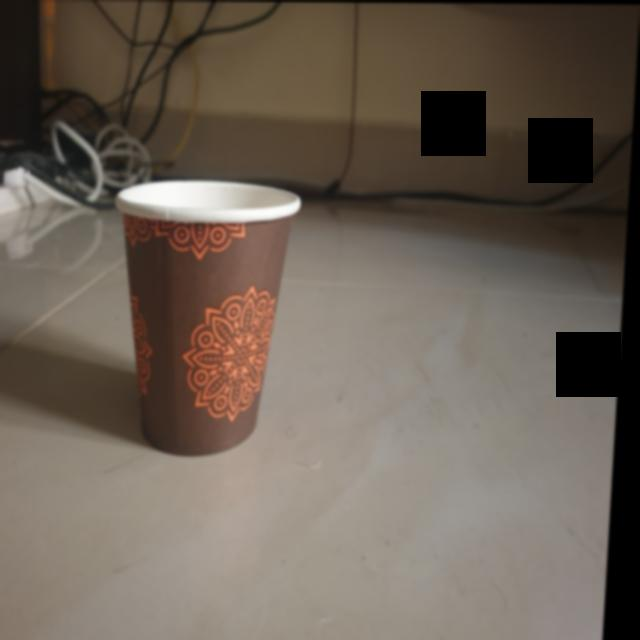cups: (103, 171, 311, 473)
